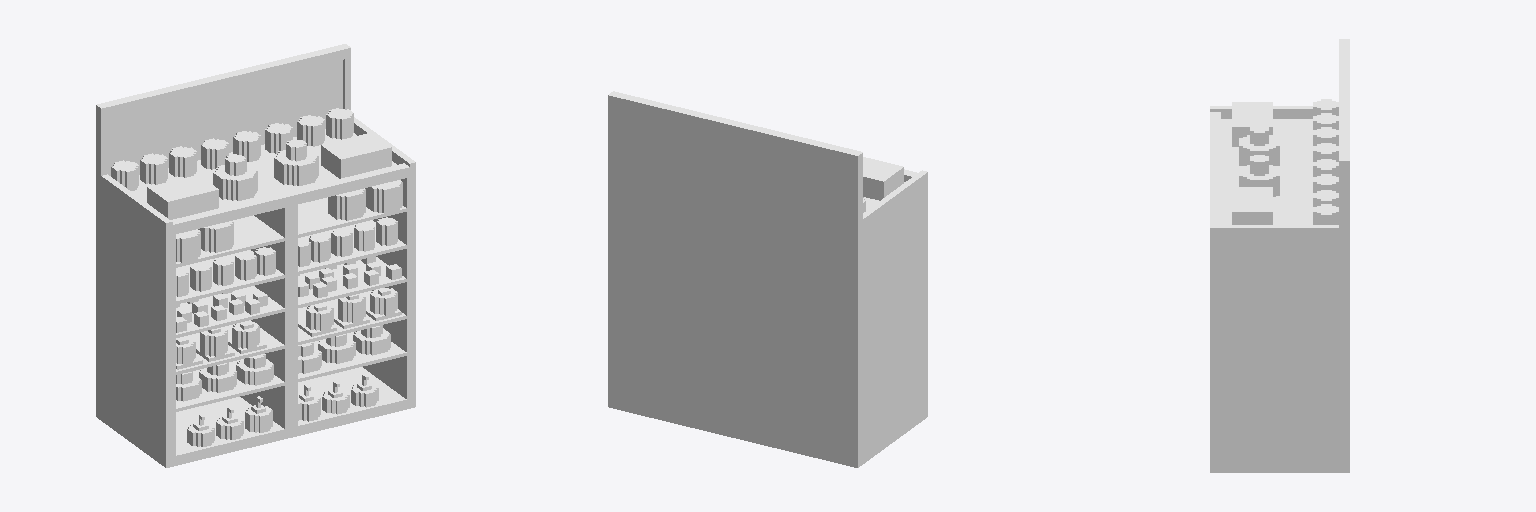
The model's file is estante2.obj.
3 renders of one model, left to right at view 1: azimuth 30°, elevation 25°; view 2: azimuth 150°, elevation 25°; view 3: azimuth 270°, elevation 25°, orthographic.
Parts seen in each view (by area): view 1: object 1; view 2: object 1; view 3: object 1.
Boxes of the visible parts, <box> form: object 1: <box>96,44,415,467</box>; object 1: <box>608,91,927,467</box>; object 1: <box>1210,39,1349,472</box>.
Size of the model in its own units: 7.8 by 9.3 by 3.8.